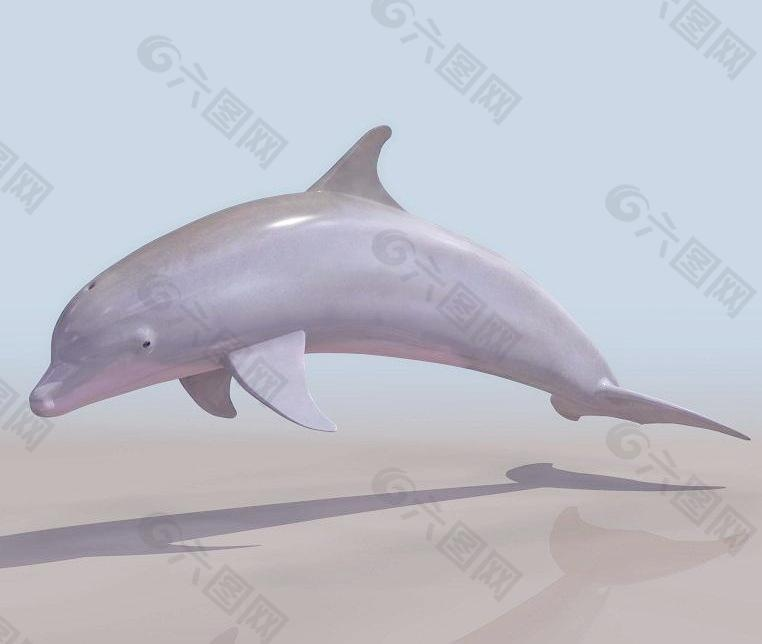fish: (26, 128, 755, 440)
